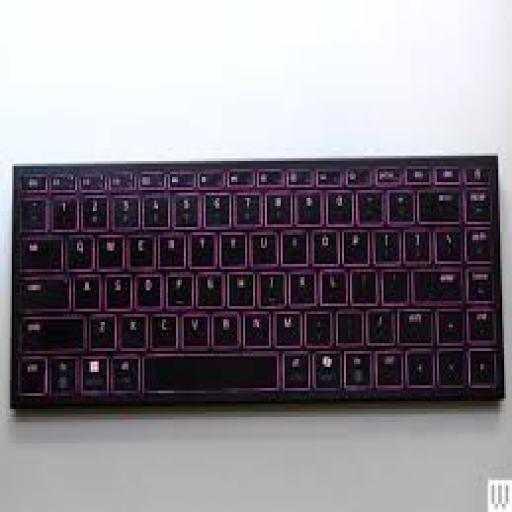keyboard: (10, 156, 504, 409)
